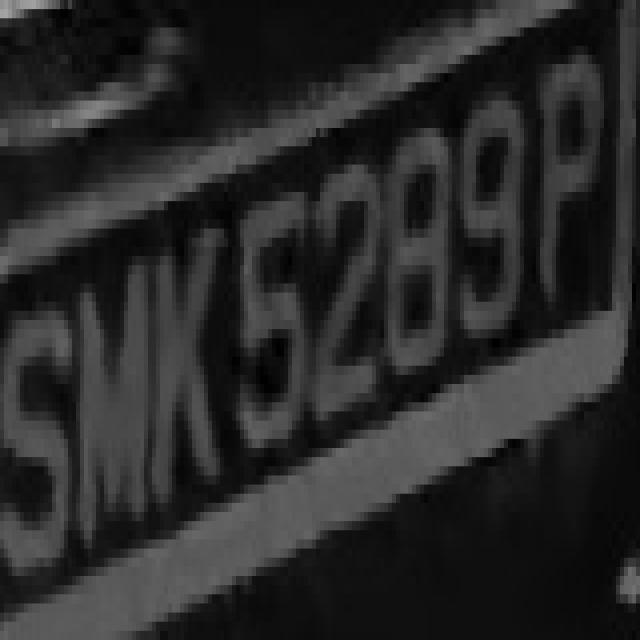2: (300, 119, 380, 475)
5: (232, 156, 312, 457)
8: (372, 110, 452, 420)
9: (452, 73, 524, 393)
K: (144, 192, 224, 521)
M: (64, 210, 148, 576)
P: (524, 19, 612, 348)
S: (0, 274, 76, 594)
